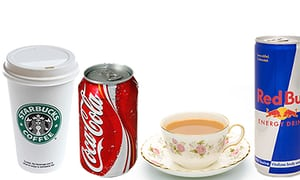coke: (80, 66, 139, 175)
